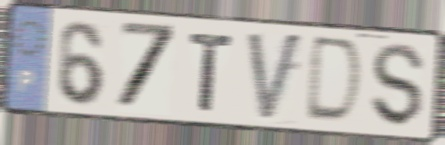6: (55, 18, 108, 110)
7: (118, 19, 179, 116)
D: (302, 33, 366, 129)
S: (370, 41, 427, 130)
T: (187, 31, 236, 115)
V: (245, 30, 306, 127)
